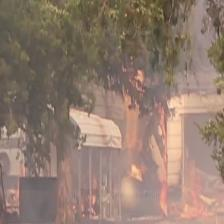fire: (115, 65, 214, 221), (42, 153, 121, 224)
